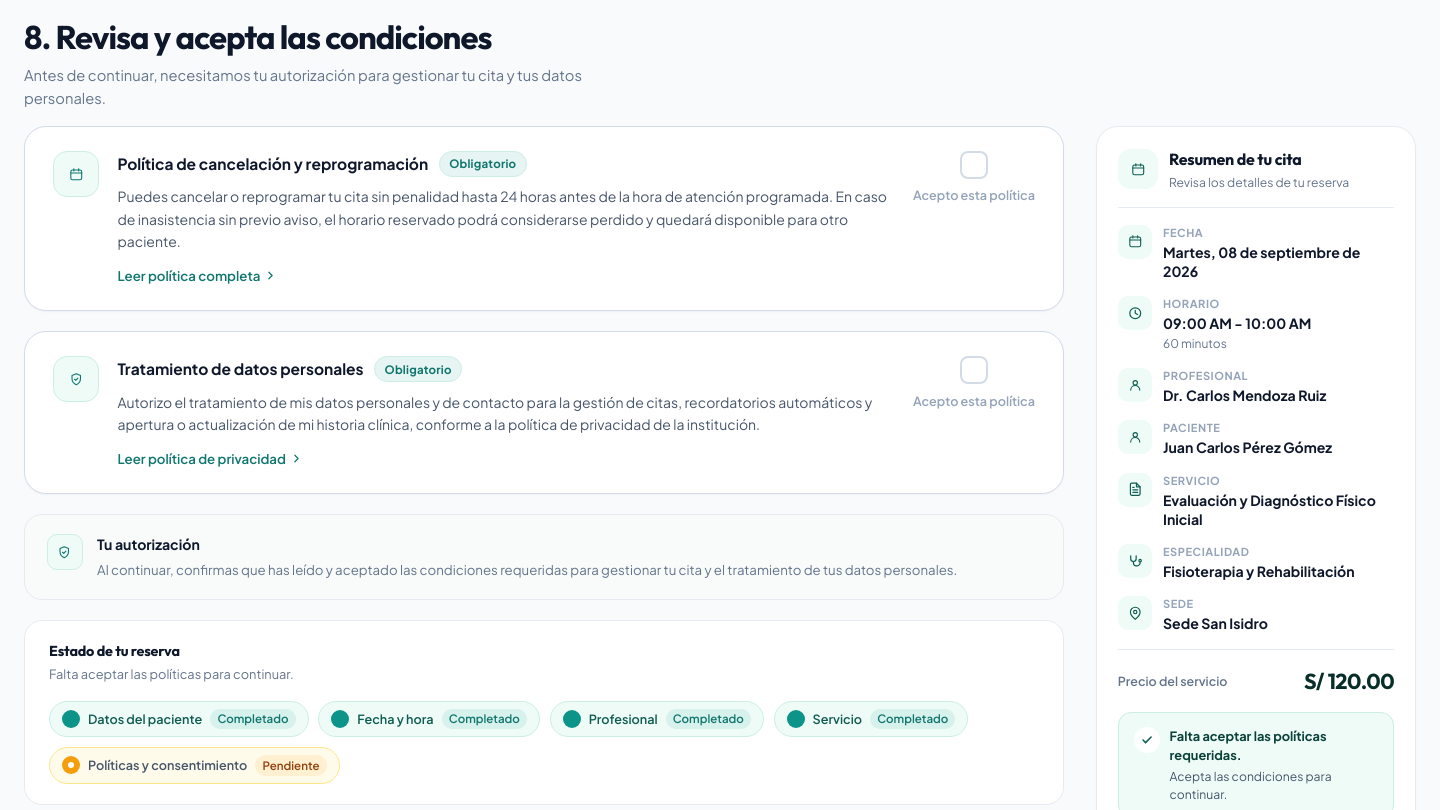
Test: AppointmentConsentStep › opens and closes the cancellation policy modal without leaving the flow
The image size is (1440, 810).
Click the button "Leer política completa" at (197, 276), box [117, 266, 277, 286]
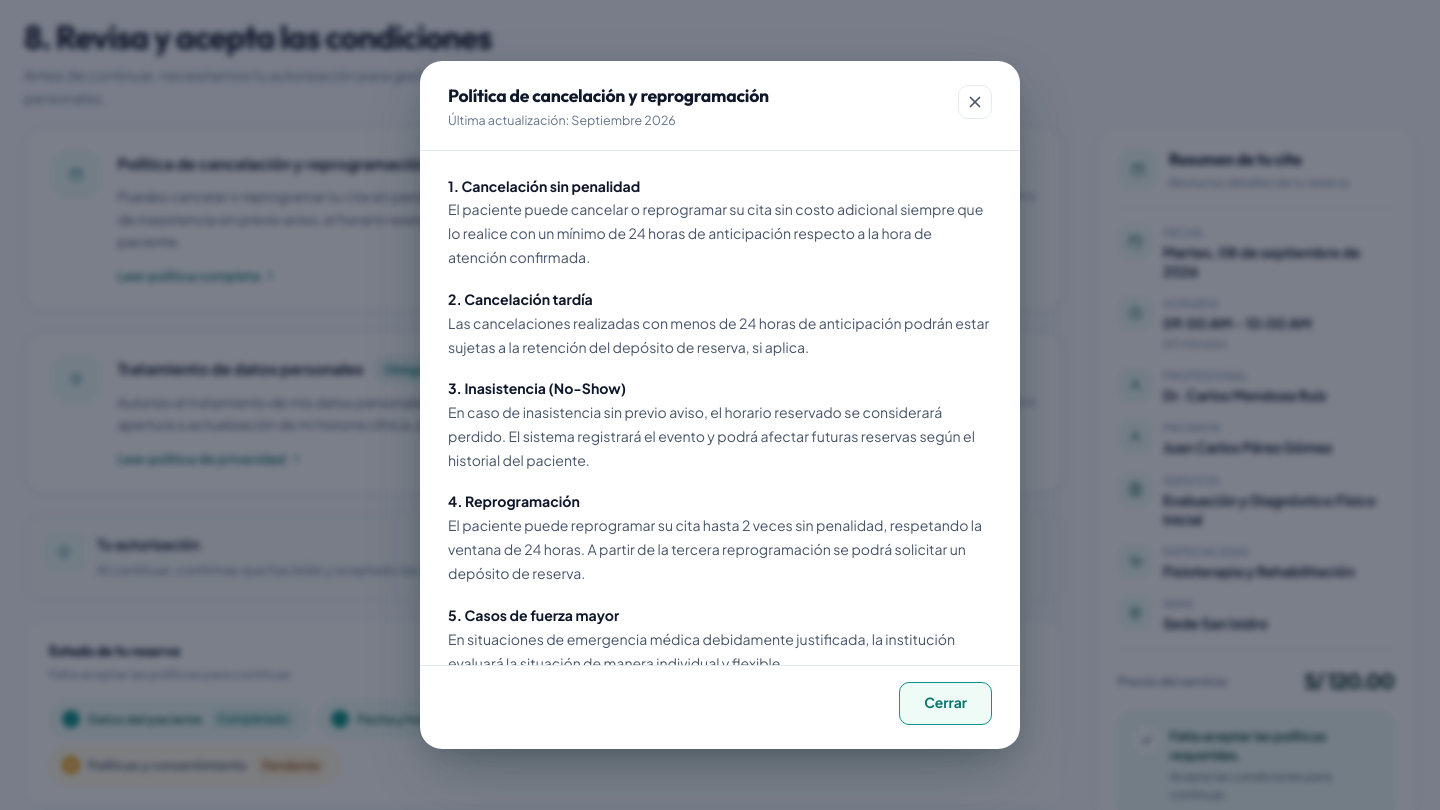
Now the dialog is shown, box [420, 61, 1020, 749]
Now the text "1. Cancelación sin penalidad" is shown, box [448, 176, 640, 194]
Close button dismisses modal
Click the button named "Cerrar" at (975, 102), box [958, 85, 992, 119]
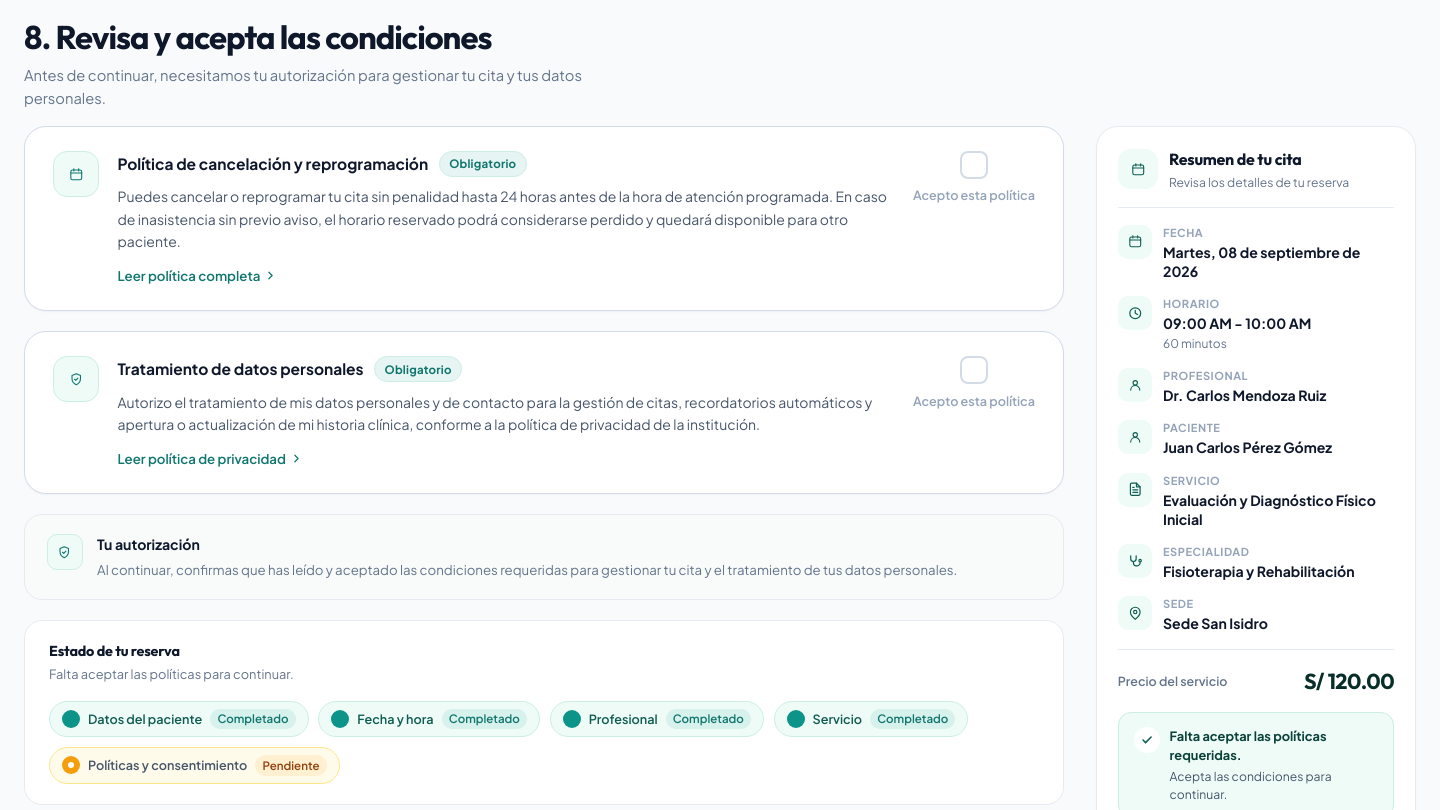
Now the dialog is gone
